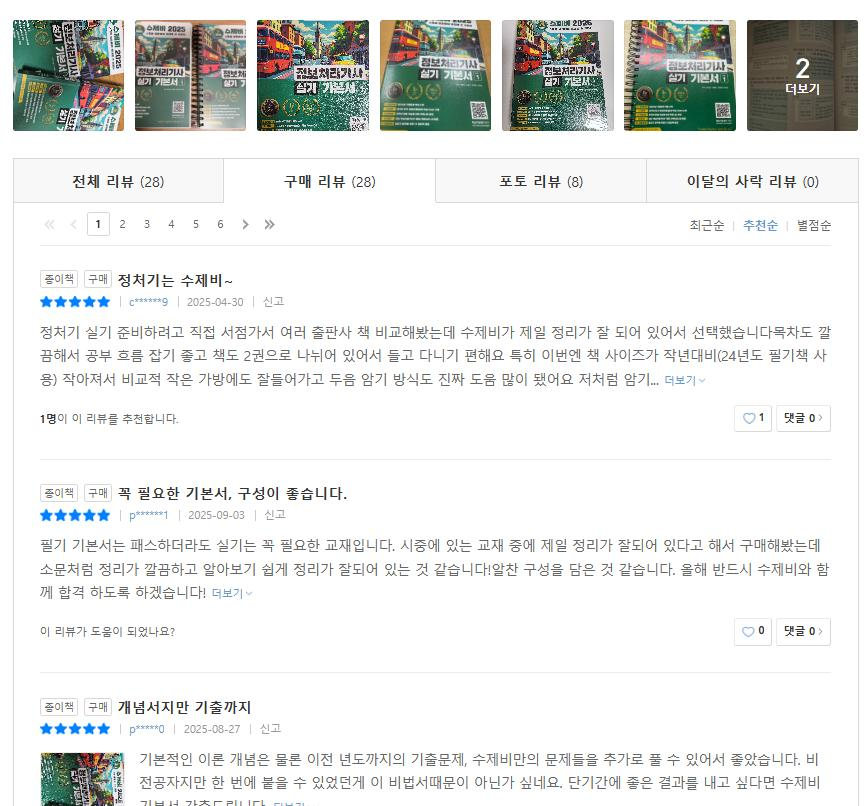button: (622, 20, 738, 132), (261, 13, 370, 130), (134, 20, 251, 128), (14, 18, 126, 130), (747, 18, 859, 127), (381, 18, 490, 129), (504, 18, 612, 130), (10, 159, 213, 200), (231, 163, 423, 201), (456, 162, 623, 196), (669, 166, 848, 189), (780, 411, 829, 433), (782, 626, 833, 646), (736, 623, 770, 649), (687, 212, 726, 232), (742, 216, 781, 234), (807, 218, 842, 236), (739, 410, 764, 433), (40, 213, 70, 228), (93, 216, 108, 239), (263, 218, 282, 231), (136, 221, 156, 233), (160, 221, 182, 231), (190, 219, 206, 231), (240, 218, 252, 230), (209, 216, 220, 228), (121, 224, 130, 233)
